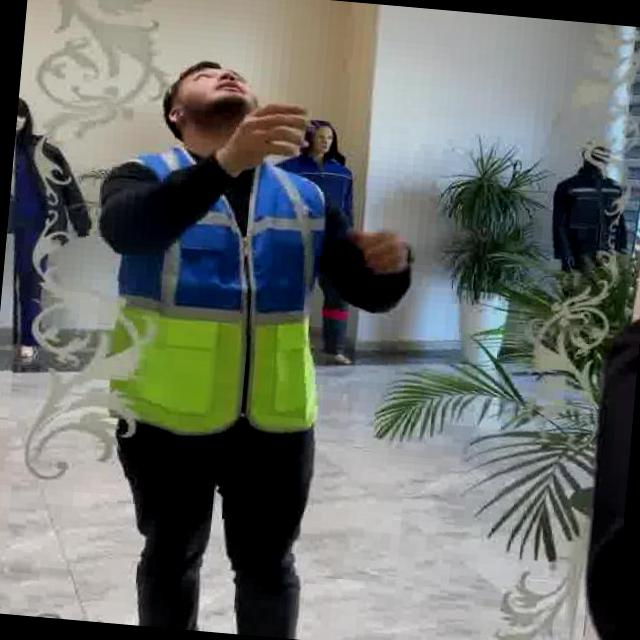vest: (93, 142, 344, 456)
